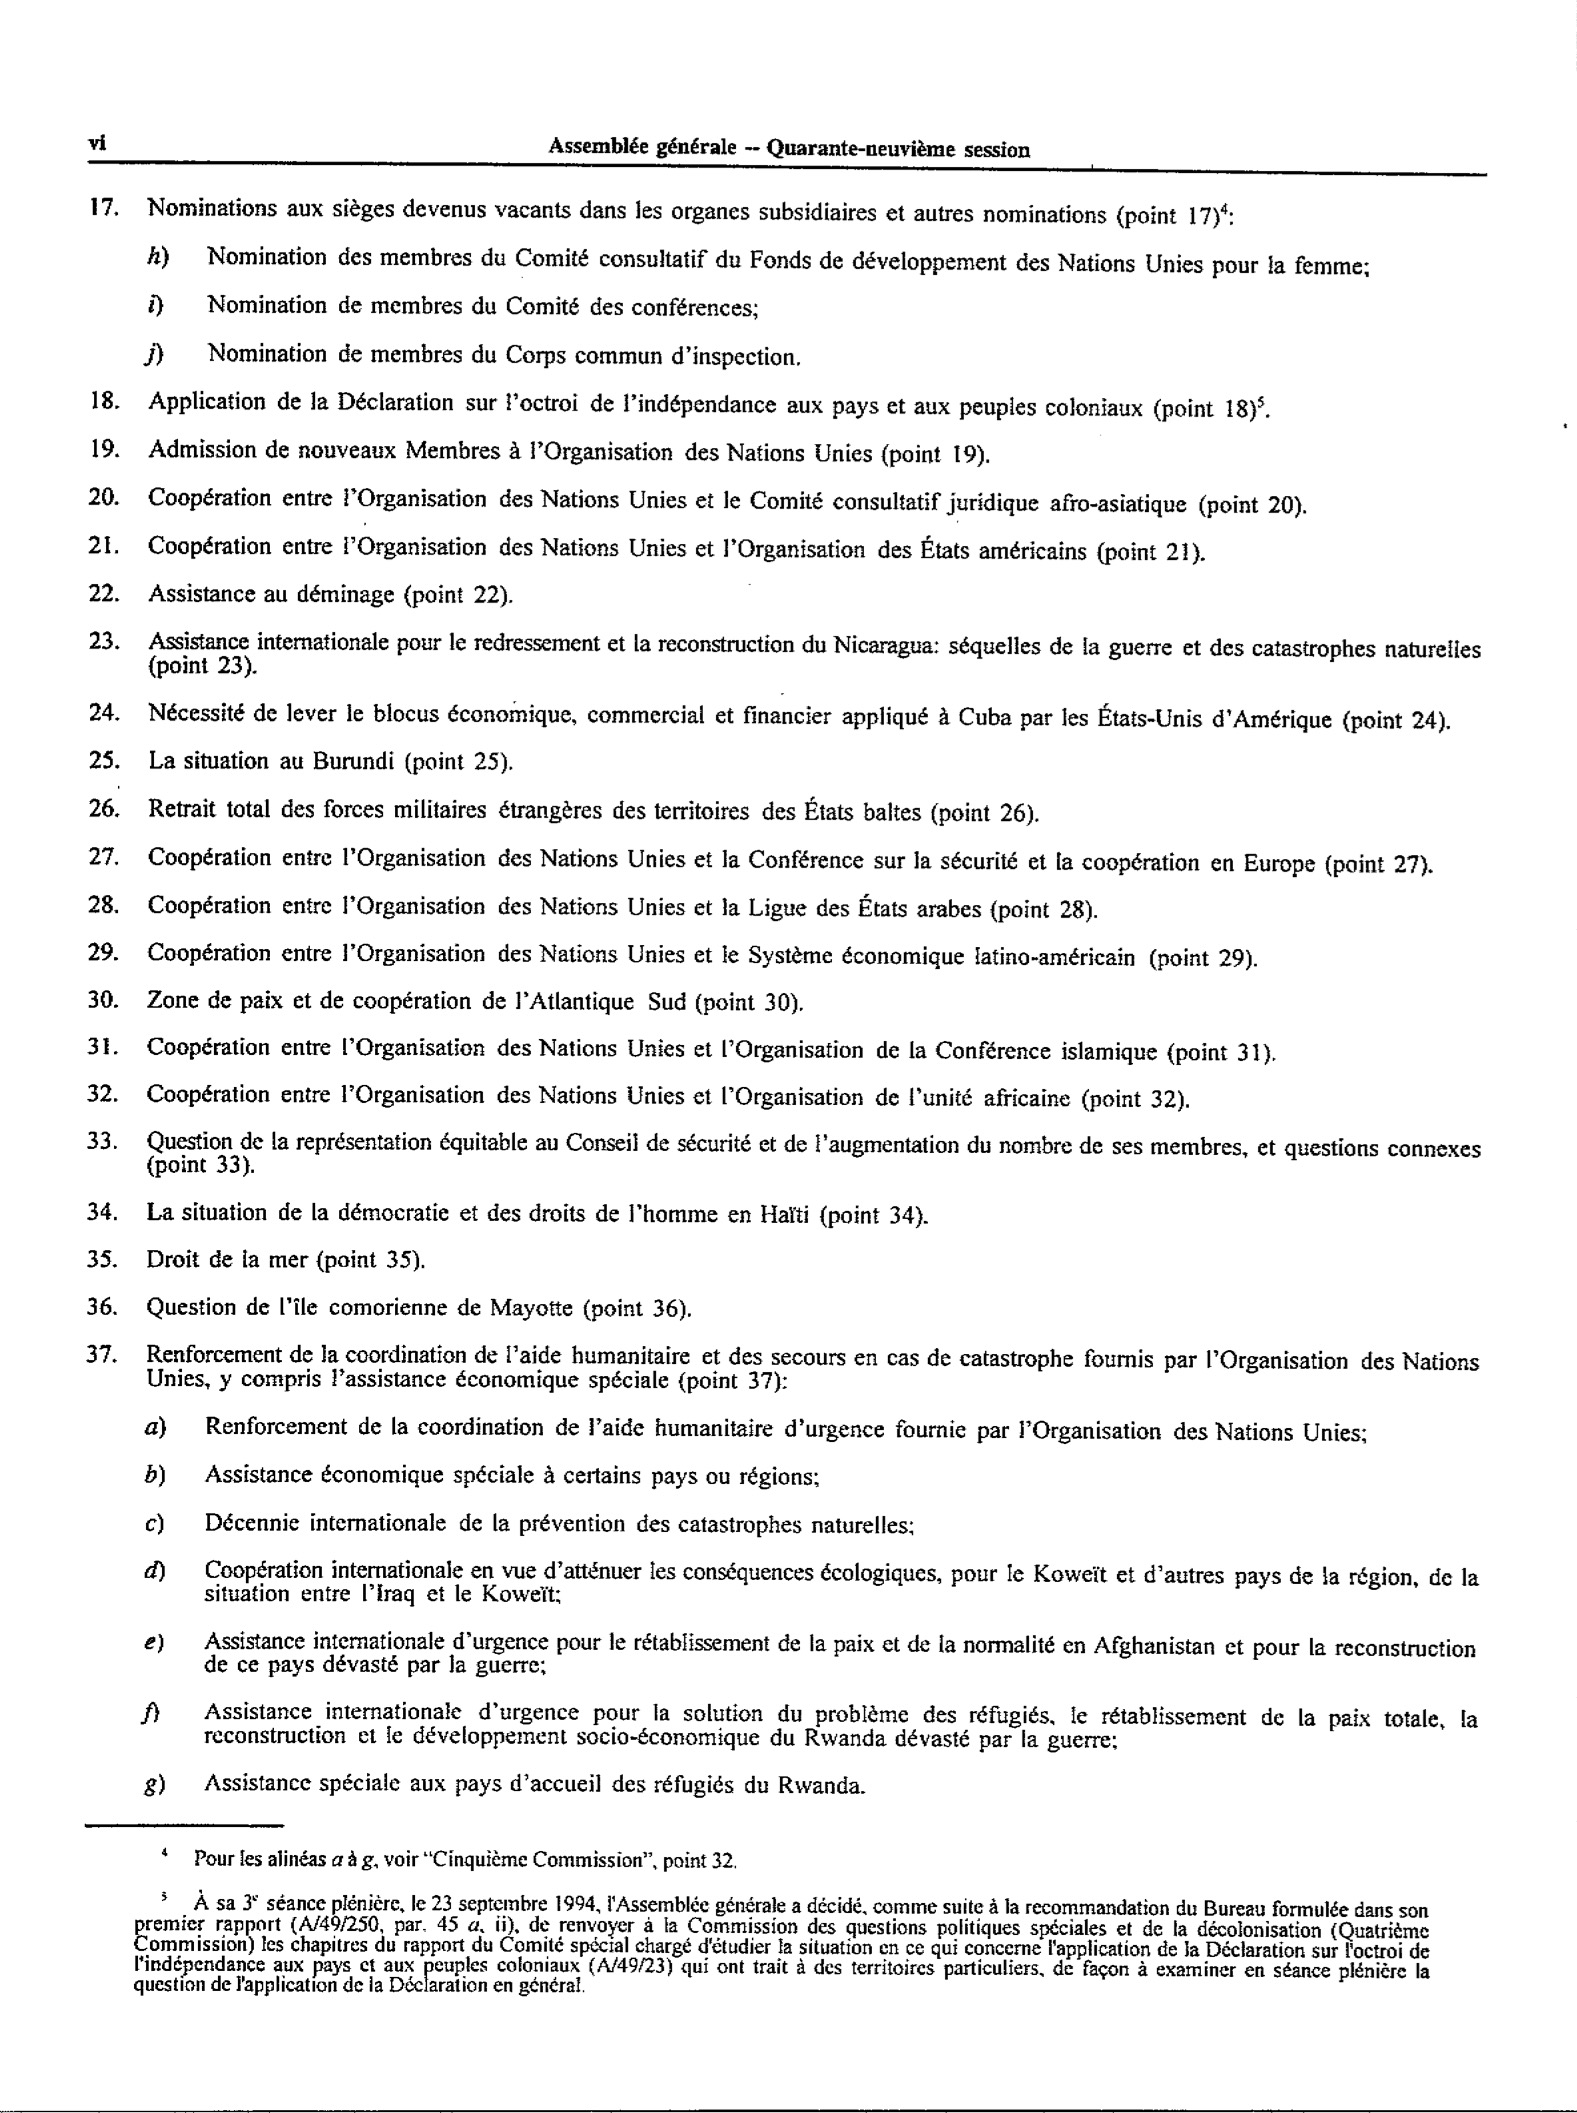MainZone-ListItem: (73, 1116, 1502, 1187), (71, 618, 1483, 689), (81, 1333, 1497, 1403), (124, 1550, 1491, 1618), (131, 1691, 1488, 1759), (128, 1621, 1488, 1687), (73, 831, 1481, 886), (73, 972, 1491, 1025), (73, 1186, 1496, 1237), (75, 783, 1483, 835), (75, 520, 1464, 571), (75, 422, 1444, 474), (75, 1070, 1489, 1119), (83, 376, 1406, 426), (73, 929, 1484, 975), (76, 692, 1453, 737), (76, 1027, 1280, 1071), (81, 883, 1191, 929), (134, 240, 1377, 280), (134, 1409, 1368, 1449), (76, 480, 1310, 517), (80, 190, 1244, 229), (129, 1762, 931, 1808), (114, 1502, 961, 1545), (123, 1452, 865, 1499), (103, 330, 813, 378), (113, 283, 788, 328), (73, 1285, 709, 1330), (76, 571, 535, 618), (75, 1239, 446, 1283), (80, 742, 520, 777)
MarginTextZone-Notes: (121, 1883, 1466, 2009), (136, 1836, 754, 1881)
StampZone: (537, 126, 1039, 172)
TitlePageZone: (80, 126, 114, 159)
